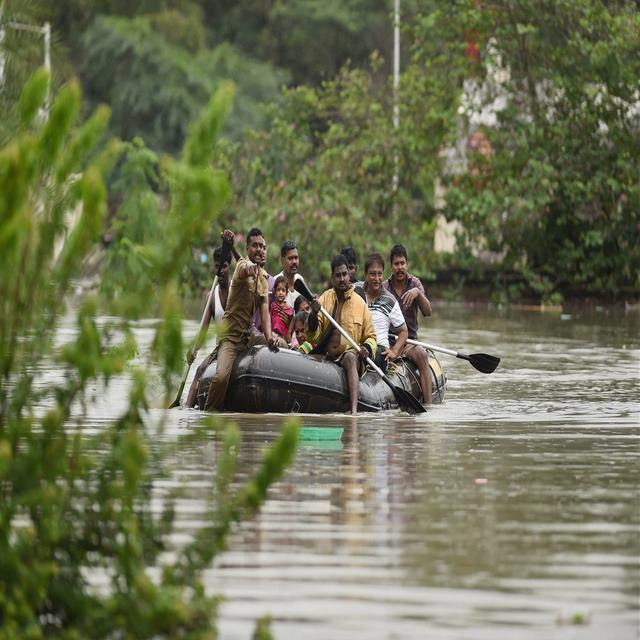Person-RiskLevel3: (195, 227, 434, 416)
